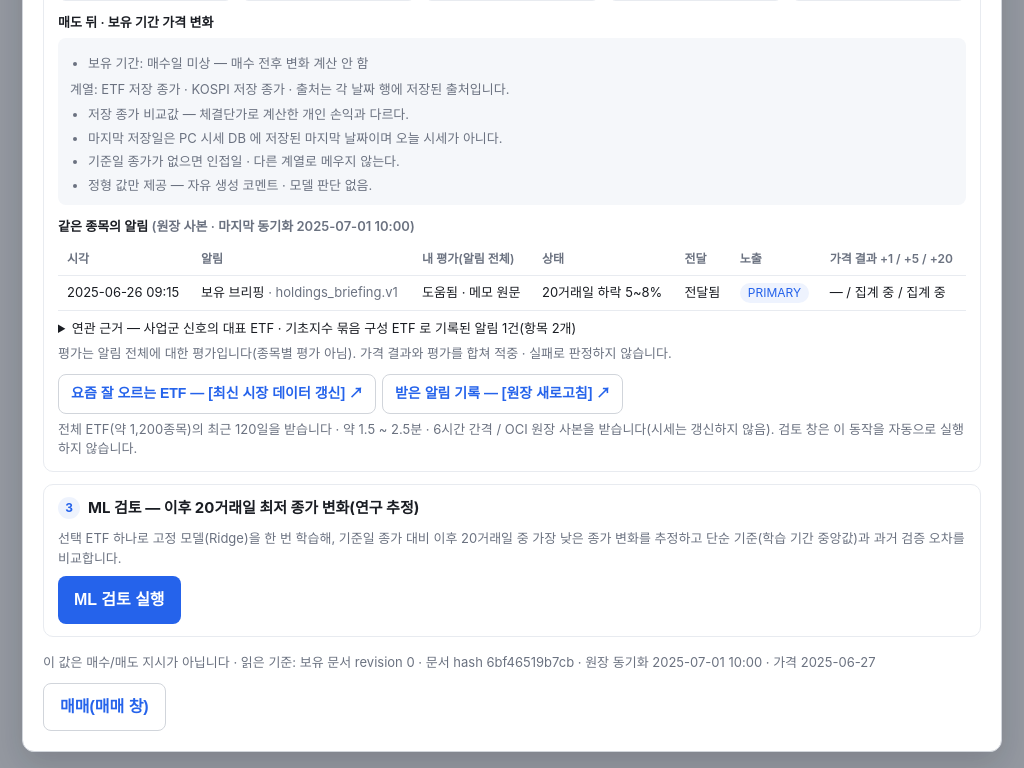
Scenario: 재진입 검토 창 › ML 검토 실행 → 추정값 · 단순 기준 · 검증 오차 · 구간 표 · 산출물
(page scrolled)
Step 1. Click the button "ML 검토 실행" → [119, 600], box [58, 576, 181, 624]
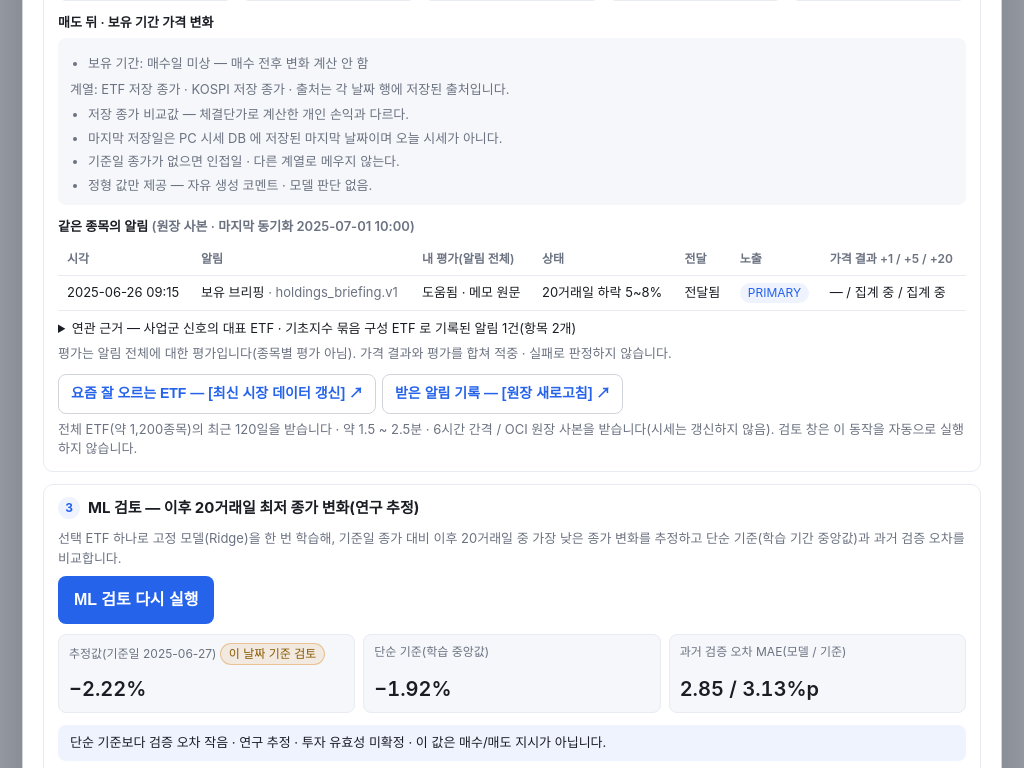
Expected: the text "추정값(기준일 2025-06-27) 이 날짜 기준 검토" is shown, [69, 643, 344, 674]
Expected: the text "단순 기준(학습 중앙값)" is shown, [374, 644, 489, 659]
Expected: the text "단순 기준보다 검증 오차 작음 · 연구 추정 · 투자 유효성 미확정 · 이 값은 매수/매도 지시가 아닙니다." is shown, [58, 726, 966, 761]
